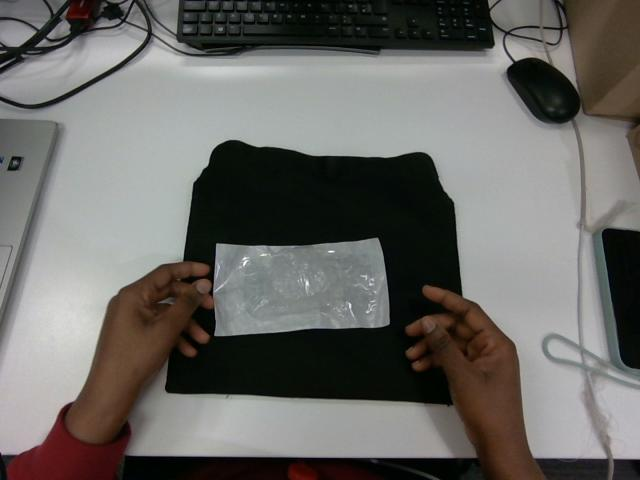gallipot: (214, 238, 389, 335)
